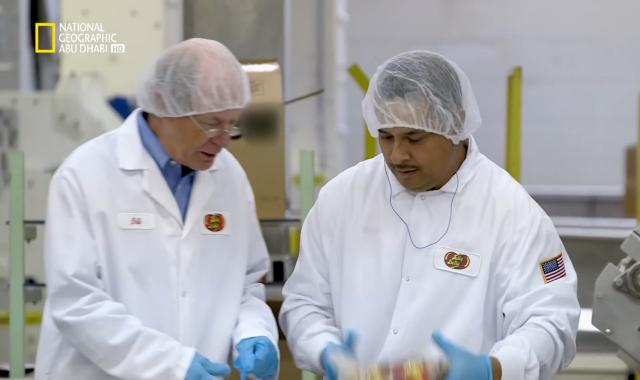hairnet: (366, 52, 477, 140), (136, 39, 252, 113)
